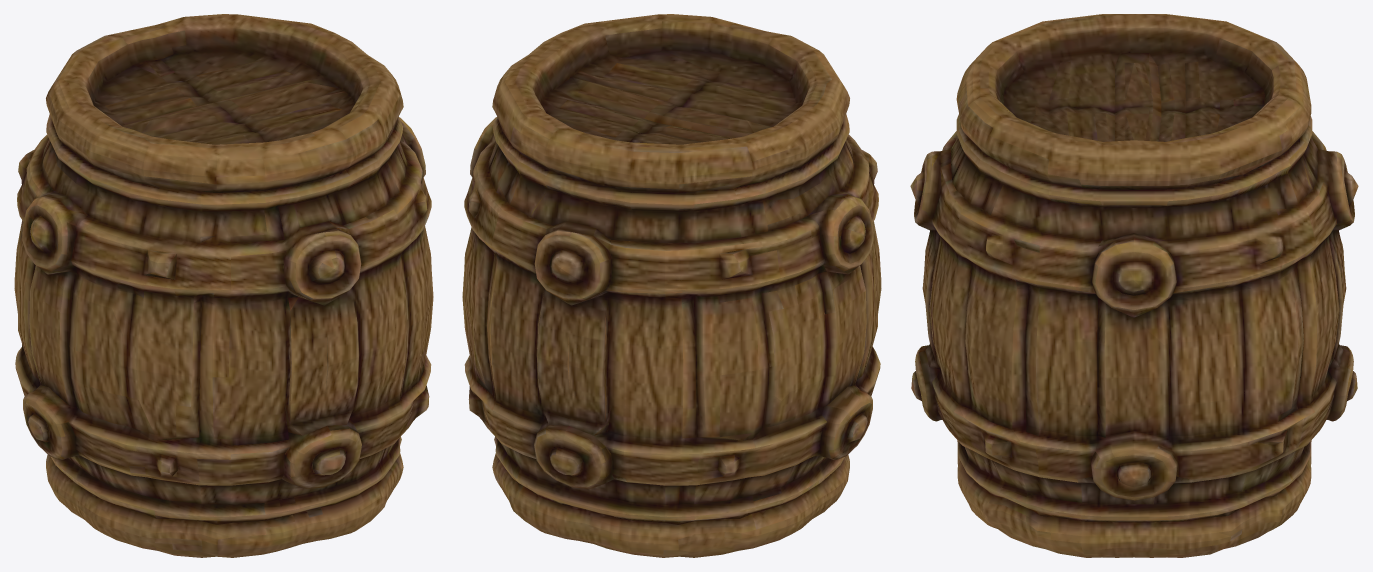
The model's file is barrel_wood.glb.
The picture shows the model from 3 angles, left to right: view 1: azimuth 30°, elevation 25°; view 2: azimuth 150°, elevation 25°; view 3: azimuth 270°, elevation 25°; orthographic projection.
Size of the model in its own units: 1.86 by 1.9 by 1.86.
Materials: 1 (1 with a texture image).
